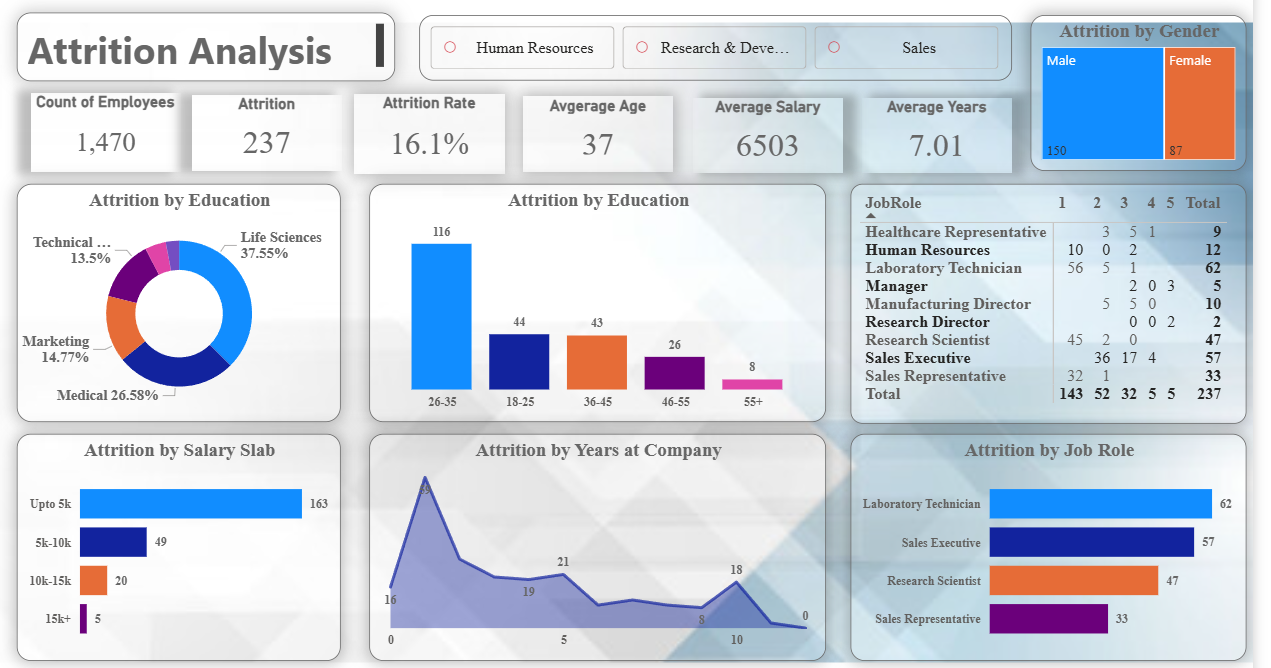

The dashboard page shown, as its layout file describes it:
{"tool":"powerbi","page":{"name":"Home","canvas":[1280,720],"ordinal":0},"visuals":[{"type":"cardVisual","title":"Count of Employees","fields":{"Data":["CountNonNull(Attribition.EmpID)"]},"box":[57.1,107.7,150,80],"z":0},{"type":"cardVisual","title":"Attrition","fields":{"Data":["Sum(Attribition.Attrition_Count)"]},"box":[218.6,110,150,75.7],"z":1},{"type":"cardVisual","title":"Attrition Rate","fields":{"Data":["Attribition.Attrition rate"]},"box":[381.4,108.6,150,80],"z":2},{"type":"cardVisual","title":"Avgerage Age ","fields":{"Data":["Avg(Attribition.Age)"]},"box":[550,111.4,150,75.7],"z":3},{"type":"cardVisual","title":"Average Salary","fields":{"Data":["Avg(Attribition.MonthlyIncome)"]},"box":[720,112.9,150,75.7],"z":4},{"type":"cardVisual","title":"Average Years","fields":{"Data":["Avg(Attribition.YearsAtCompany)"]},"box":[888.6,112.9,150,75.7],"z":5},{"type":"donutChart","title":"Attrition by Education","fields":{"Y":["Sum(Attribition.Attrition_Count)"],"Category":["Attribition.EducationField"]},"box":[44.3,198.6,324.3,238.6],"z":6},{"type":"columnChart","title":"Attrition by Education","fields":{"Category":["Attribition.AgeGroup"],"Y":["Sum(Attribition.Attrition_Count)"]},"box":[395.7,198.6,457.1,238.6],"z":7},{"type":"barChart","title":"Attrition by Salary Slab","fields":{"Category":["Attribition.SalarySlab"],"Y":["Sum(Attribition.Attrition_Count)"]},"box":[44.3,448.6,324.3,227.1],"z":9},{"type":"barChart","title":"Attrition by  Job Role","fields":{"Category":["Attribition.JobRole"],"Y":["Sum(Attribition.Attrition_Count)"]},"box":[877.1,448.6,395.7,227.1],"z":10},{"type":"areaChart","title":"Attrition by Years at Company","fields":{"Category":["Attribition.YearsAtCompany"],"Y":["Sum(Attribition.Attrition_Count)"]},"box":[395.7,448.6,457.1,227.1],"z":11},{"type":"treemap","title":"Attrition by Gender","fields":{"Group":["Attribition.Gender"],"Values":["Sum(Attribition.Attrition_Count)"]},"box":[1057.1,30,215.7,155.7],"z":12},{"type":"advancedSlicerVisual","fields":{"Values":["Attribition.Department"]},"box":[445.7,30,592.9,65.7],"z":13},{"type":"textbox","box":[44.3,27.1,378.6,68.6],"z":14},{"type":"pivotTable","fields":{"Columns":["Attribition.JobLevel"],"Rows":["Attribition.JobRole"],"Values":["Sum(Attribition.Attrition_Count)"]},"box":[877.1,198.6,395.7,240],"z":15}]}

Visuals, with their boxes on the page's 1280x720 design canvas (x1, y1, x2, y2). These are canvas units, not pixel positions in the 1271x668 screenshot, which may show the page scaled, cropped or inside an application window:
"Count of Employees" cardVisual: 57,108,207,188
"Attrition" cardVisual: 219,110,369,186
"Attrition Rate" cardVisual: 381,109,531,189
"Avgerage Age " cardVisual: 550,111,700,187
"Average Salary" cardVisual: 720,113,870,189
"Average Years" cardVisual: 889,113,1039,189
"Attrition by Education" donutChart: 44,199,369,437
"Attrition by Education" columnChart: 396,199,853,437
"Attrition by Salary Slab" barChart: 44,449,369,676
"Attrition by  Job Role" barChart: 877,449,1273,676
"Attrition by Years at Company" areaChart: 396,449,853,676
"Attrition by Gender" treemap: 1057,30,1273,186
advancedSlicerVisual - Attribition.Department: 446,30,1039,96
textbox: 44,27,423,96
pivotTable - Attribition.JobLevel x Attribition.JobRole: 877,199,1273,439
